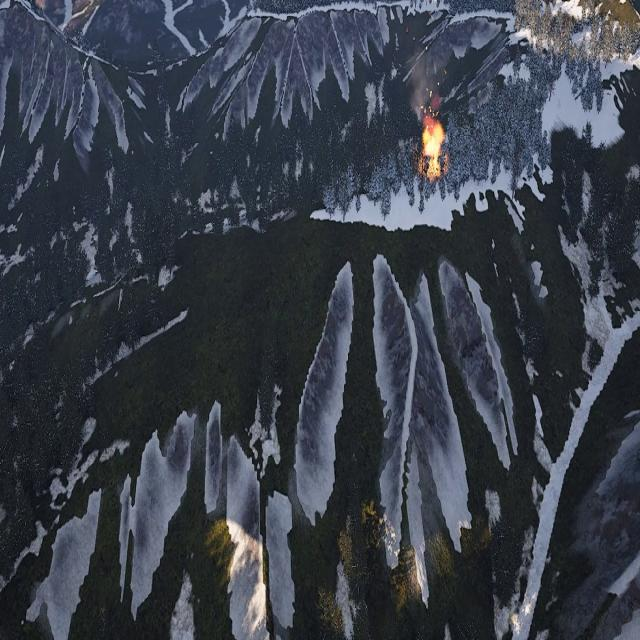fire: (419, 120, 446, 178)
smoke: (409, 49, 444, 120)
